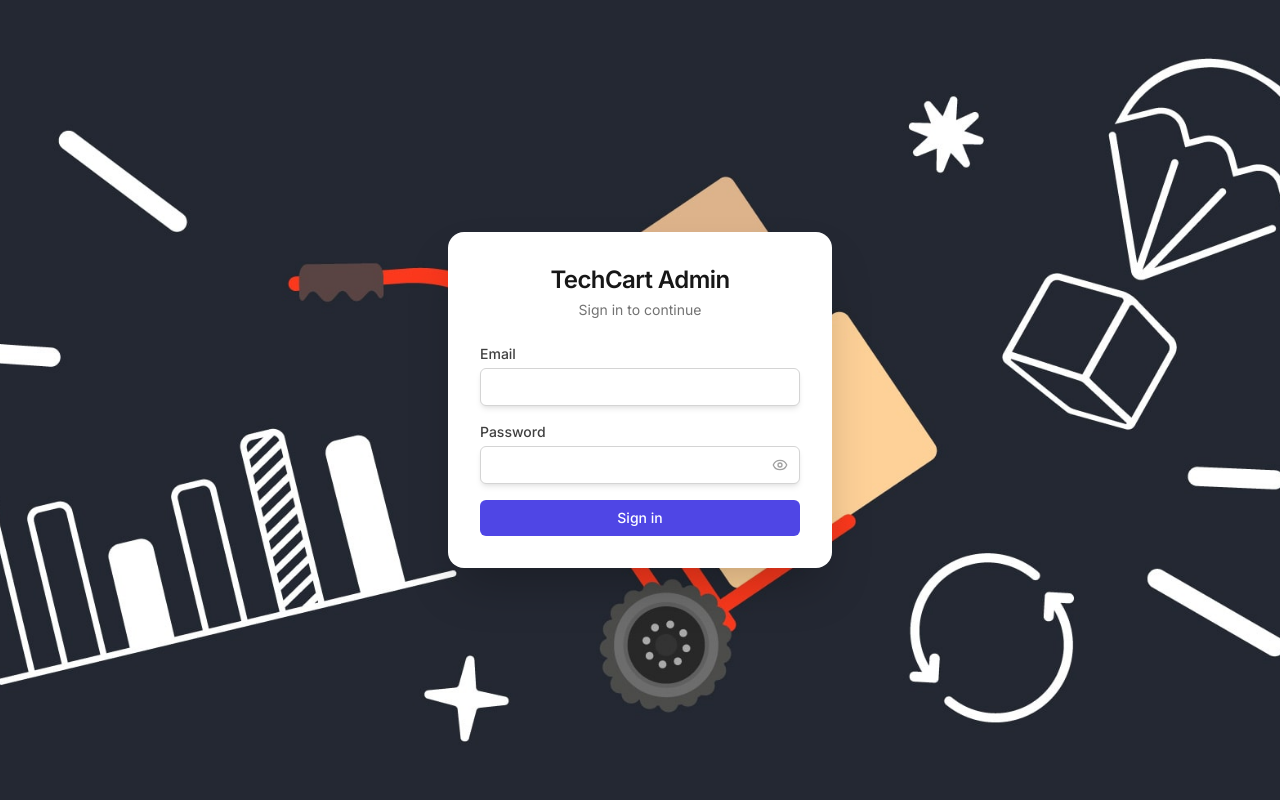
Test case: SignInContent › shows a distinct message for a deactivated account
This screenshot has width=1280, height=800.
Step 1. Type "admin@example.com" into the field labelled "Email" → (640, 387), box [480,368,800,406]
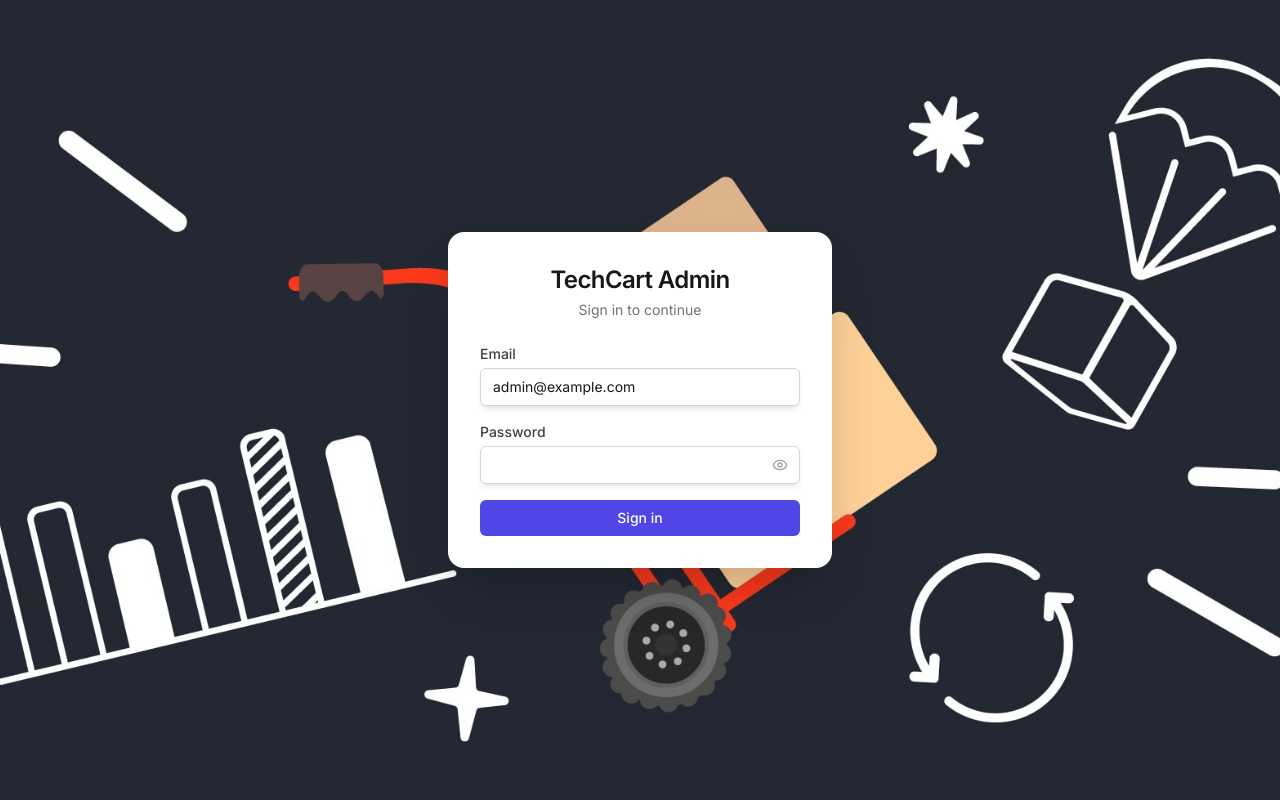
Step 2. Type "correct-password" into the password field labelled "Password" → (640, 465), box [480,446,800,484]
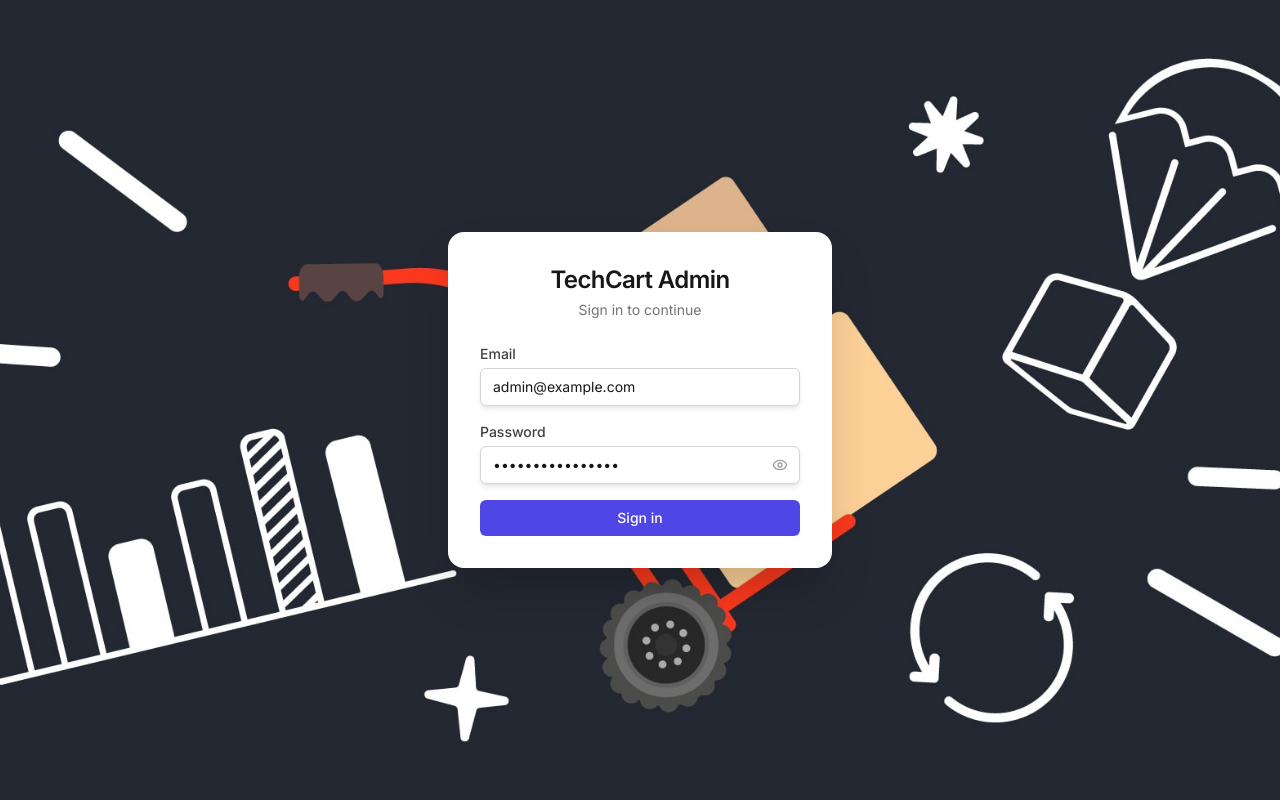
Step 3. Click the button "Sign in" → (640, 518), box [480,500,800,536]
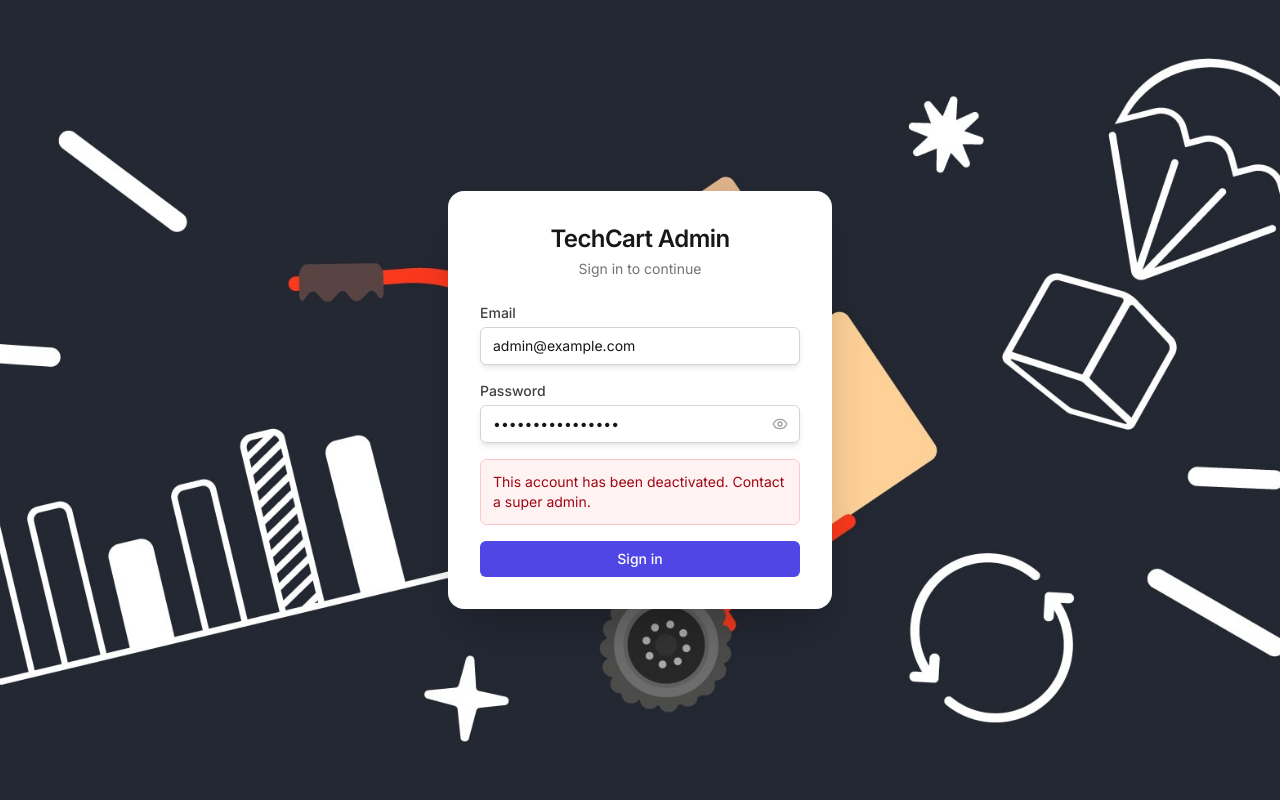
Expected: the text "This account has been deactivated. Contact a super admin." is shown, [480,459,800,525]
